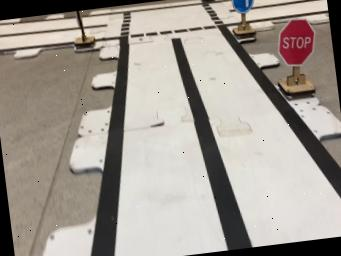left: (232, 0, 255, 36), (232, 0, 255, 36), (232, 0, 255, 36)
stop: (277, 18, 315, 97), (277, 18, 315, 97), (277, 18, 315, 97)
street: (83, 2, 341, 256), (83, 2, 341, 256), (83, 2, 341, 256), (0, 18, 80, 51), (0, 18, 80, 51), (0, 18, 80, 51), (249, 0, 328, 21), (249, 0, 328, 21), (249, 0, 328, 21)
